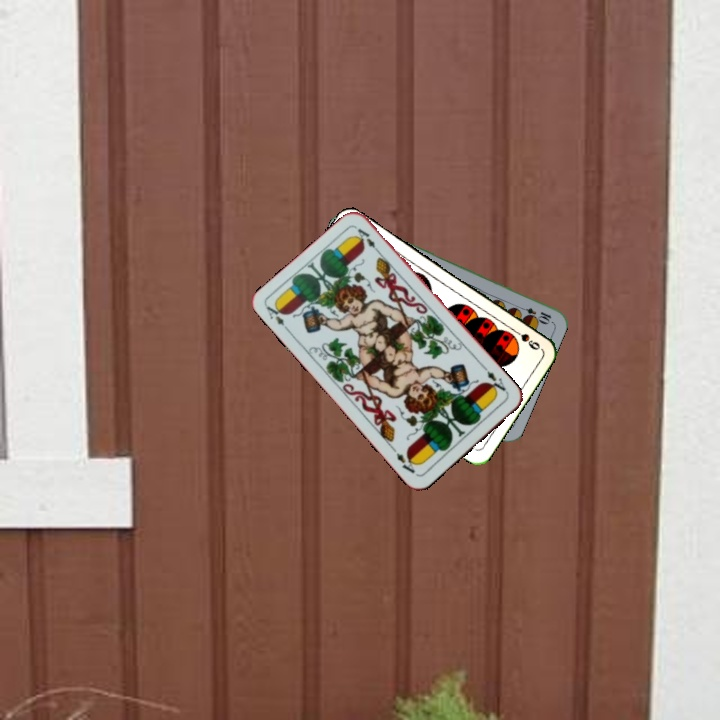E10: (514, 302, 554, 325)
EA: (262, 299, 293, 335), (479, 362, 510, 397)
S9: (507, 324, 543, 353)
